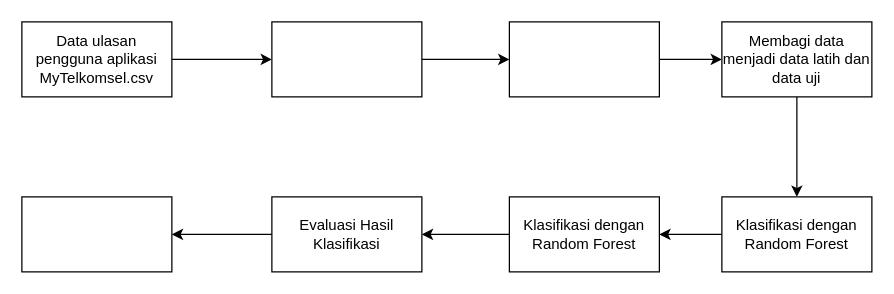
This 894x294 diagram has some shape labels left out. Each missing label, with the box of its shape:
Asosisasi kata pada sentimen positif dan negatif: (21, 196, 172, 272)
Data Preprocessing: (271, 21, 422, 97)
Pembobotan kata dan lebelisasi data: (508, 21, 659, 97)
